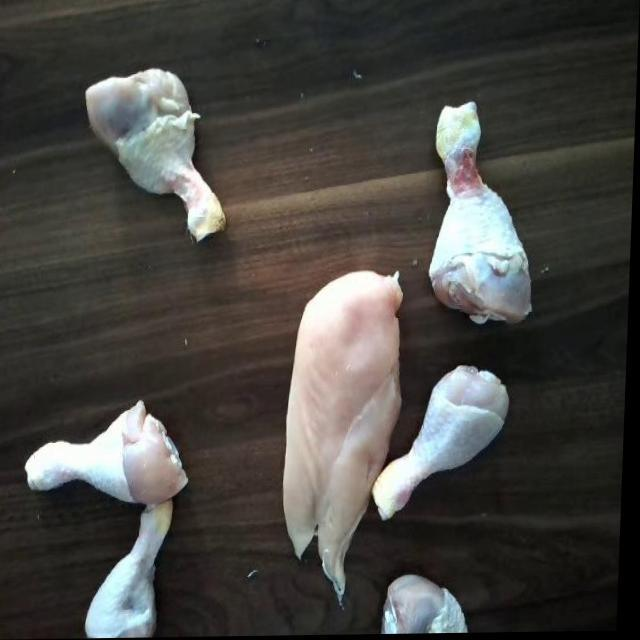breast: (276, 261, 422, 571)
leg: (418, 97, 542, 338), (78, 63, 238, 243), (370, 362, 512, 528), (30, 406, 202, 514), (85, 488, 182, 634), (378, 578, 478, 636)
